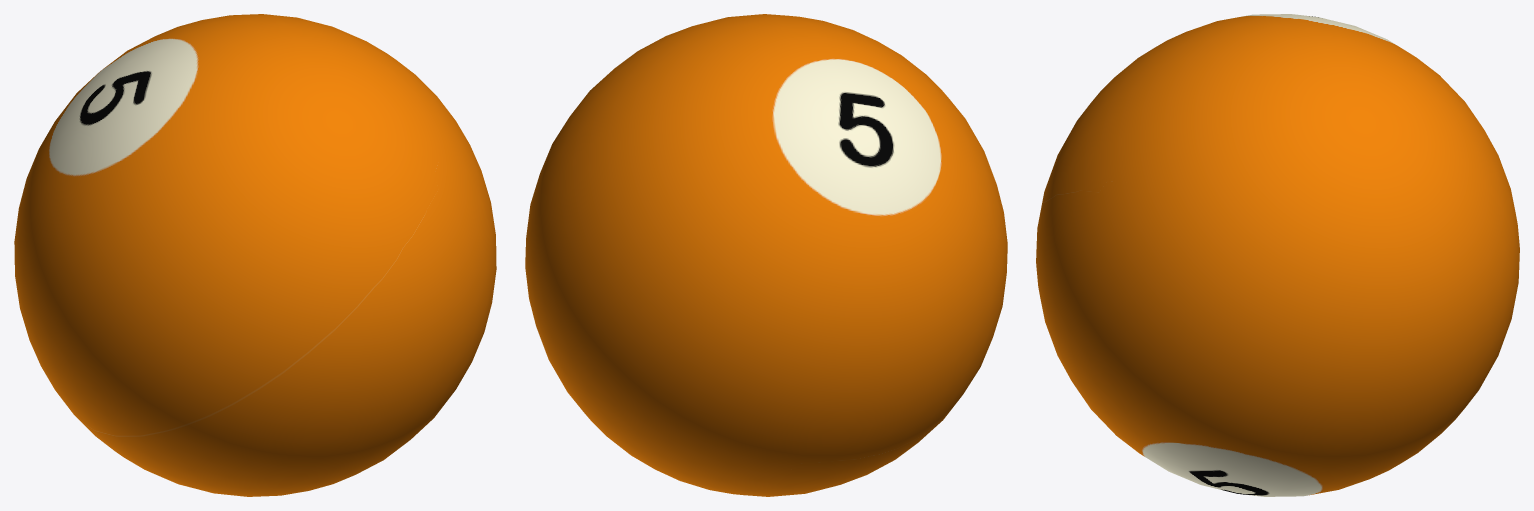
The model's file is bola13.obj.
3 views of the same model, side by side, from view 1: azimuth 30°, elevation 25°; view 2: azimuth 150°, elevation 25°; view 3: azimuth 270°, elevation 25° (orthographic).
Parts seen in each view (by area): view 1: 5_Ball; view 2: 5_Ball; view 3: 5_Ball.
Part boxes in pixels (left/top/right/bottom): 5_Ball: left=14, top=14, right=496, bottom=496; 5_Ball: left=525, top=14, right=1007, bottom=496; 5_Ball: left=1036, top=14, right=1519, bottom=496.
Bounding box in the file's own units: 0.0509 × 0.0509 × 0.0509.
1 material, 1 textured.
